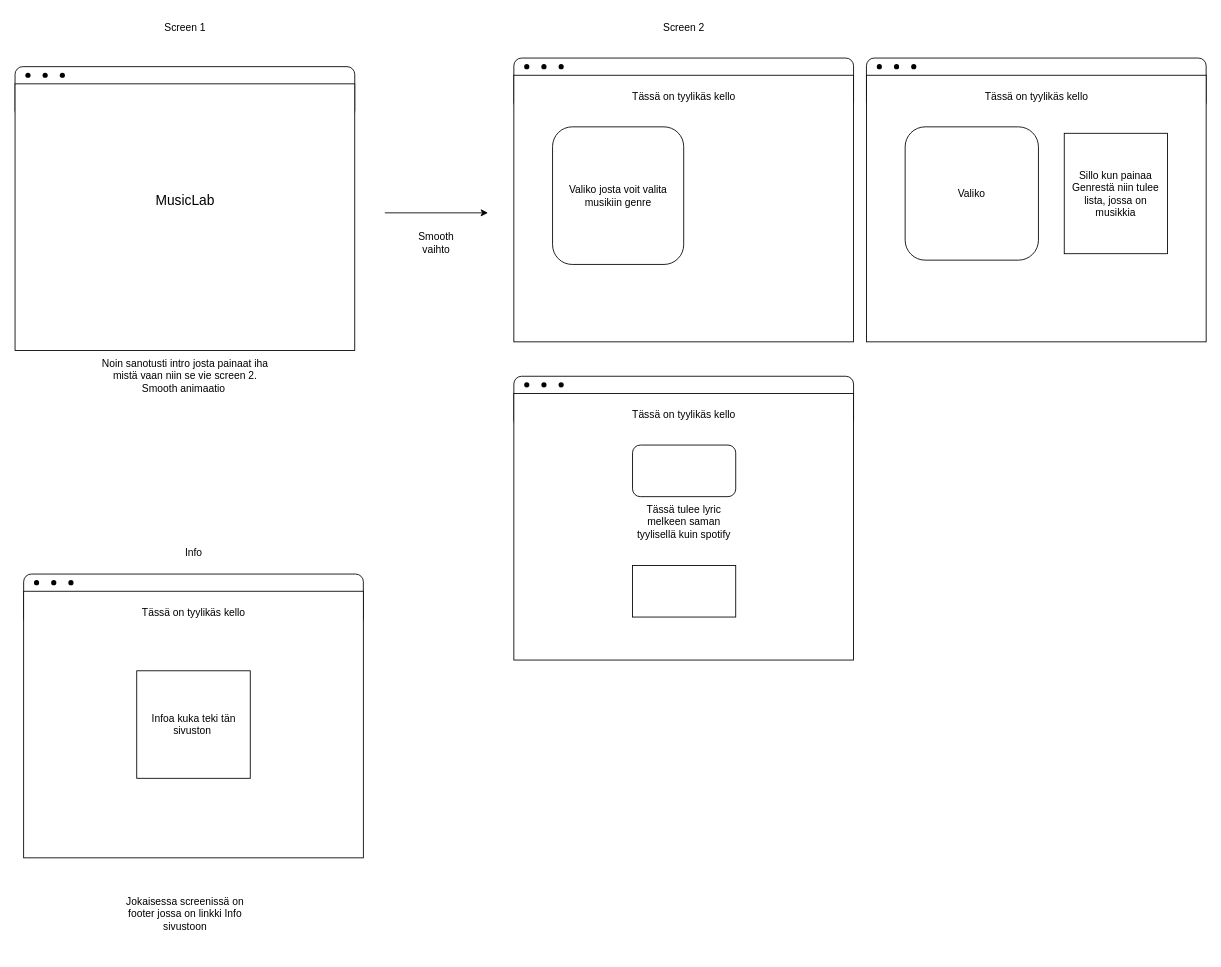
This 1221x967 diagram has some shape labels left out. The centre of each missing label's shape, as x and y in pixels:
"Lista jossa voi vaihtaa musikkia" belongs at (x=684, y=591).
"super tyylikäs player" belongs at (x=684, y=470).
